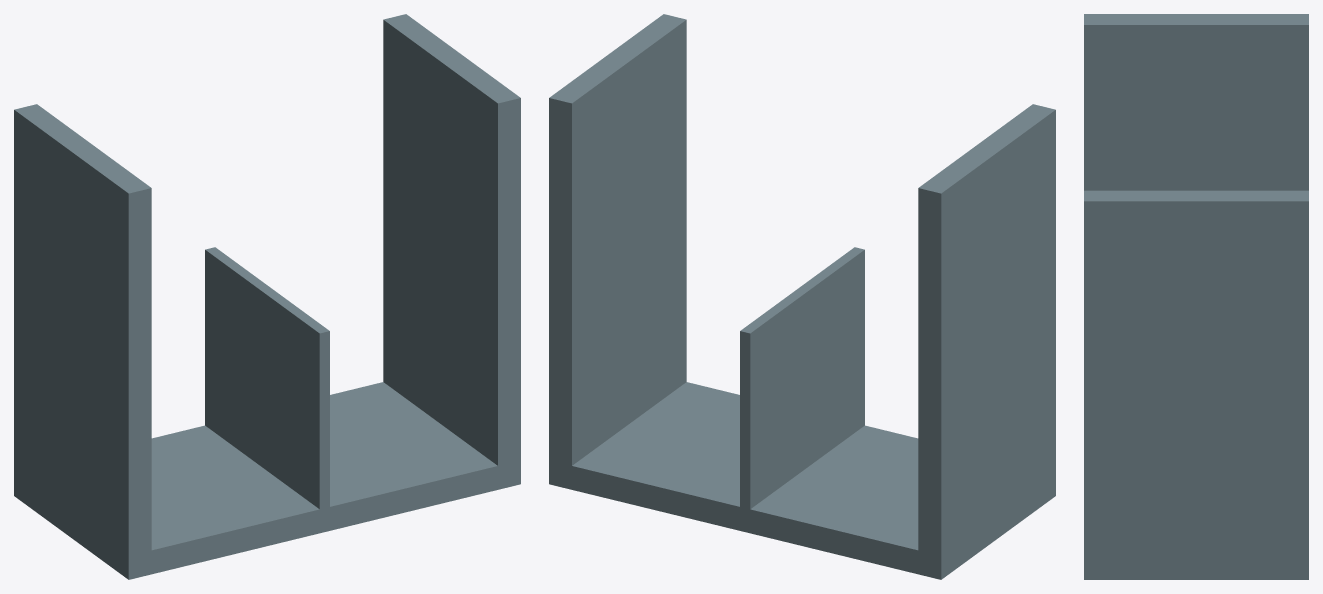
Rendered from step-4.obj.
3 views of the same model, side by side, from view 1: azimuth 30°, elevation 25°; view 2: azimuth 150°, elevation 25°; view 3: azimuth 270°, elevation 25° (orthographic). The views are drawn at different scales.
Parts seen in each view (by area): view 1: IKE170029; view 2: IKE170029; view 3: IKE170029.
Part boxes in pixels (x1,y1,x2,y2): IKE170029: [14, 14, 520, 579]; IKE170029: [549, 14, 1055, 579]; IKE170029: [1084, 14, 1308, 579].
Bounding box in the file's own units: 0.77 × 0.725 × 0.39.
